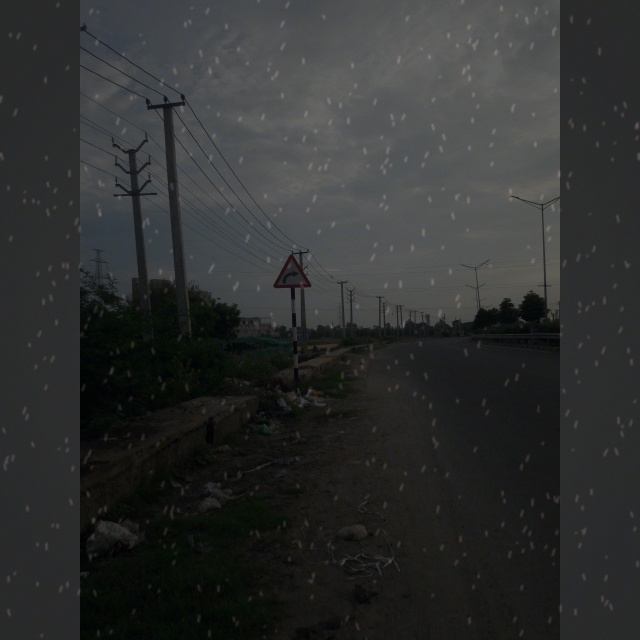Right_Hand_Curve: (274, 253, 313, 295)
